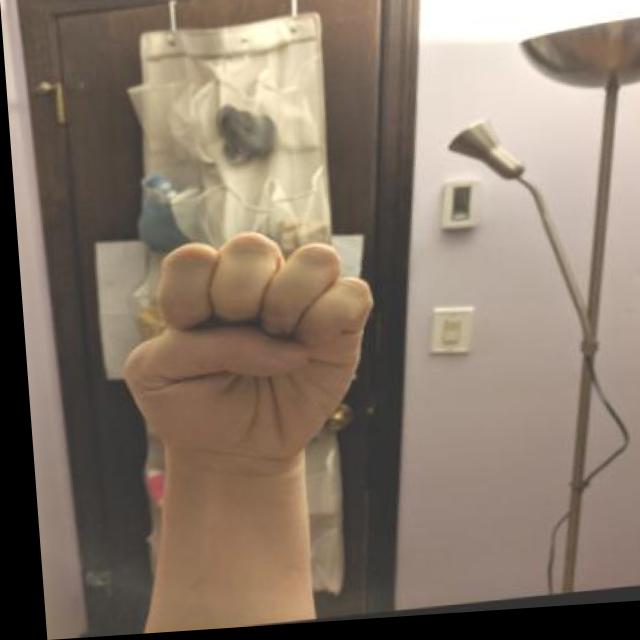E: (104, 224, 387, 484)
